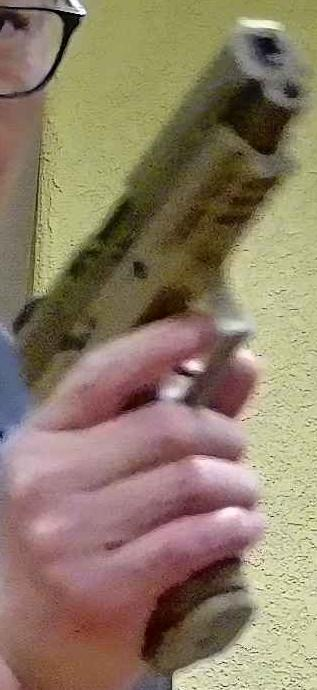gun: (0, 1, 317, 690)
